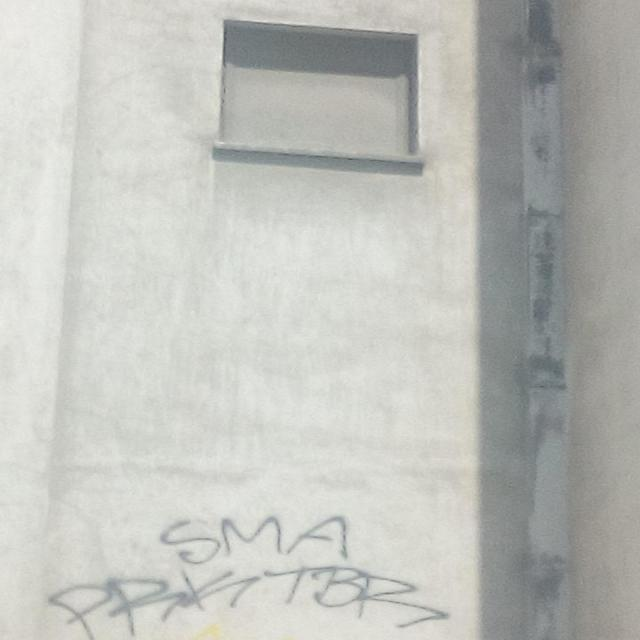nonspitting: (49, 516, 452, 638)
